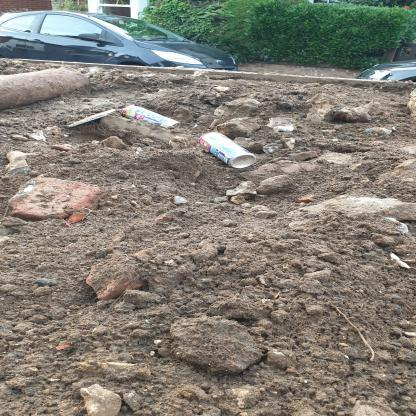metal: (199, 134, 256, 170), (122, 106, 182, 131)
